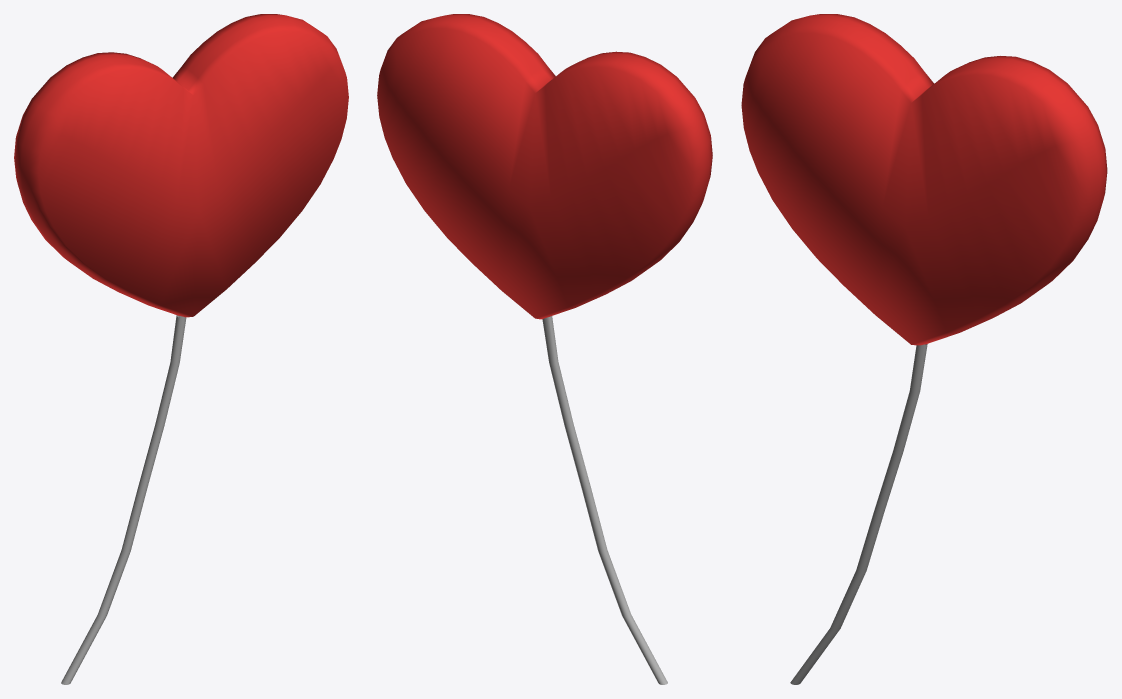
File: Heart_Balloon_00.fbx
The picture shows the model from 3 angles, left to right: view 1: azimuth 30°, elevation 25°; view 2: azimuth 150°, elevation 25°; view 3: azimuth 330°, elevation 25°; orthographic projection. The views are drawn at different scales.
Parts seen in each view (by area): view 1: Heart_Balloon_00; view 2: Heart_Balloon_00; view 3: Heart_Balloon_00.
Part boxes in pixels (x1,y1,x2,y2): Heart_Balloon_00: (14, 14, 348, 684); Heart_Balloon_00: (377, 14, 712, 684); Heart_Balloon_00: (741, 14, 1107, 684).
Bounding box in the file's own units: 194 × 350 × 33.16.
